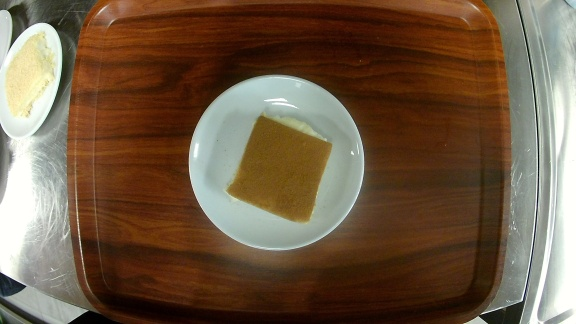tiramisu: (189, 74, 365, 250)
